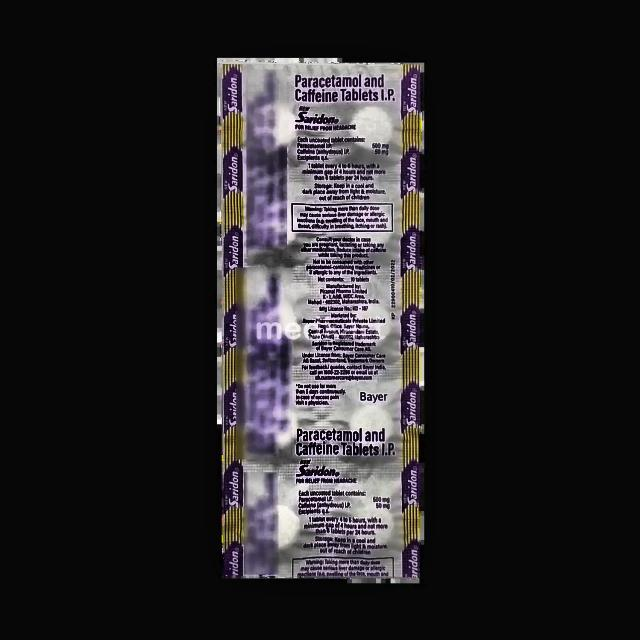Saridon: (224, 64, 423, 577)
